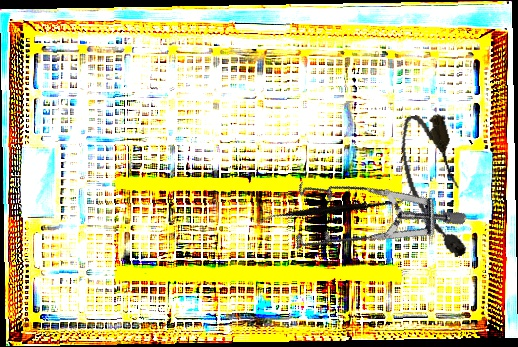Cannula: (393, 109, 476, 264)
Spatula Surgical: (256, 133, 413, 283)
Speculum: (268, 127, 469, 320)
